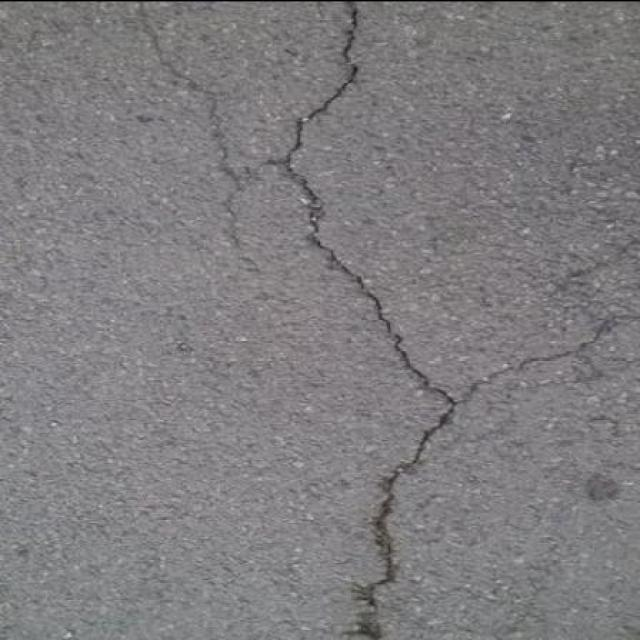Crack: (138, 1, 639, 406), (351, 408, 452, 640)
